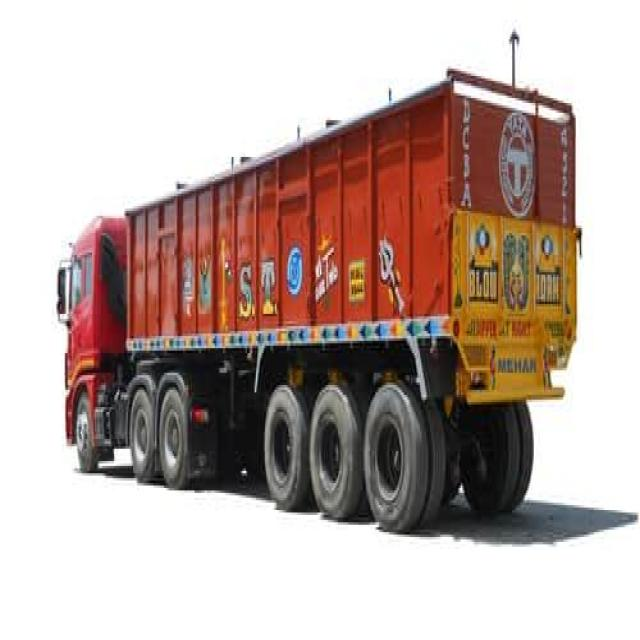truck: (58, 69, 580, 530)
